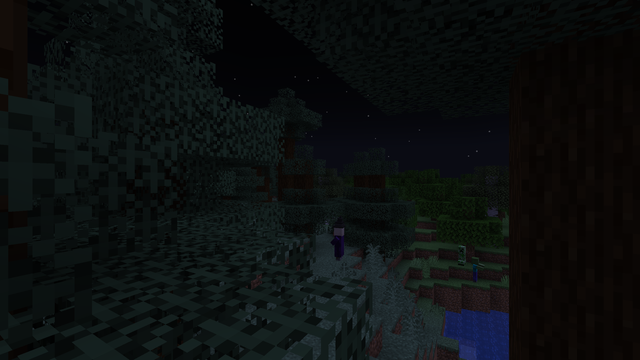creepers: (458, 244, 465, 265)
sorcieres: (332, 224, 345, 261)
zombies: (471, 257, 479, 283)
